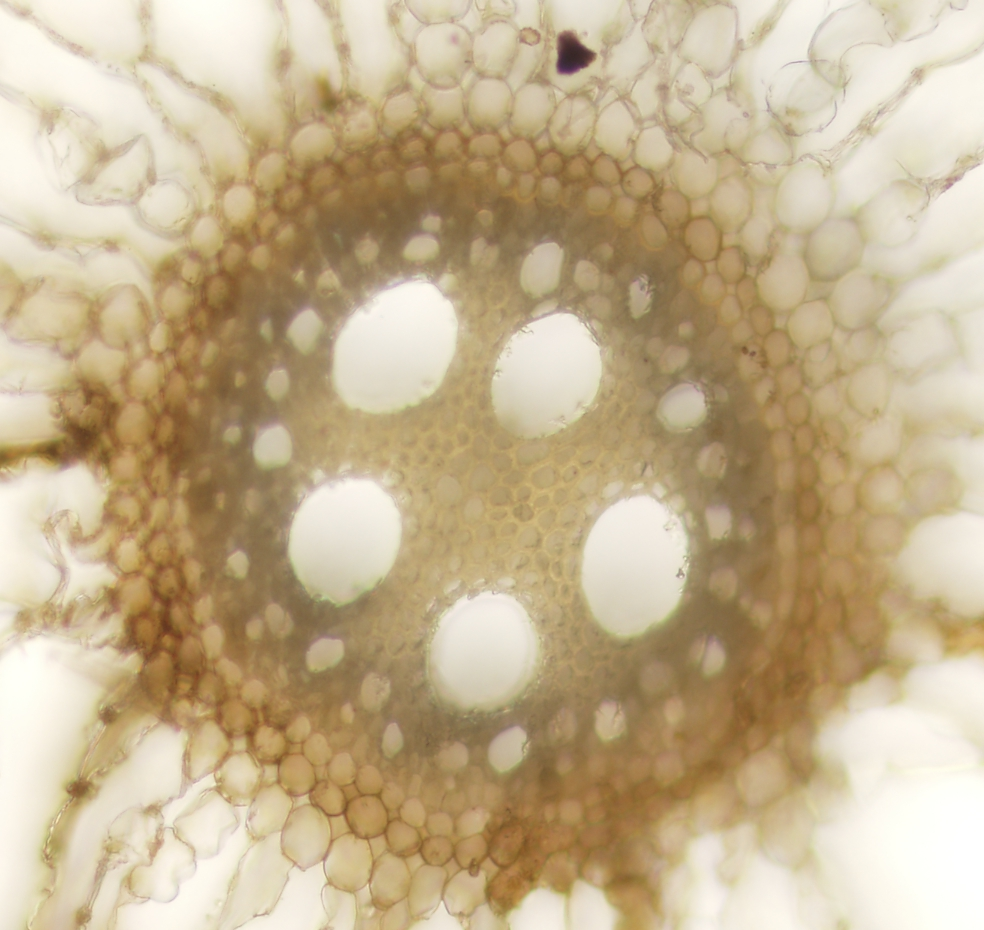lm: (330, 279, 457, 416), (580, 493, 691, 640), (288, 474, 402, 608), (490, 309, 603, 439), (424, 590, 540, 715)
